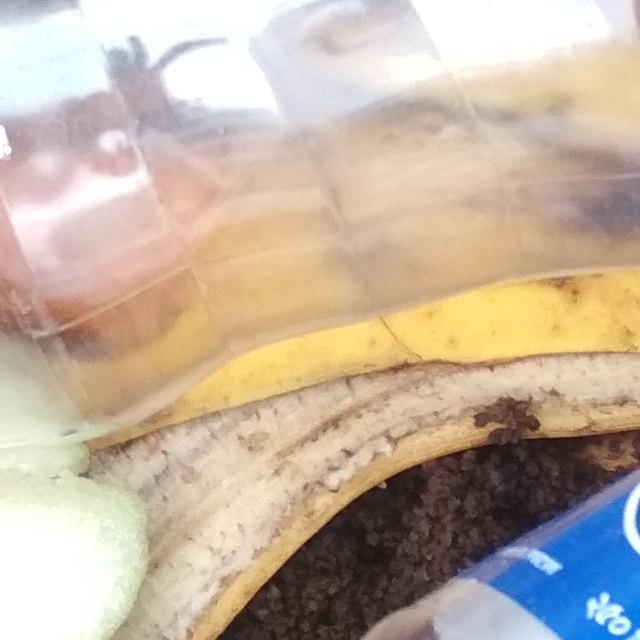food_waste: (0, 277, 258, 640)
plastic: (0, 132, 640, 640), (0, 0, 640, 467)
